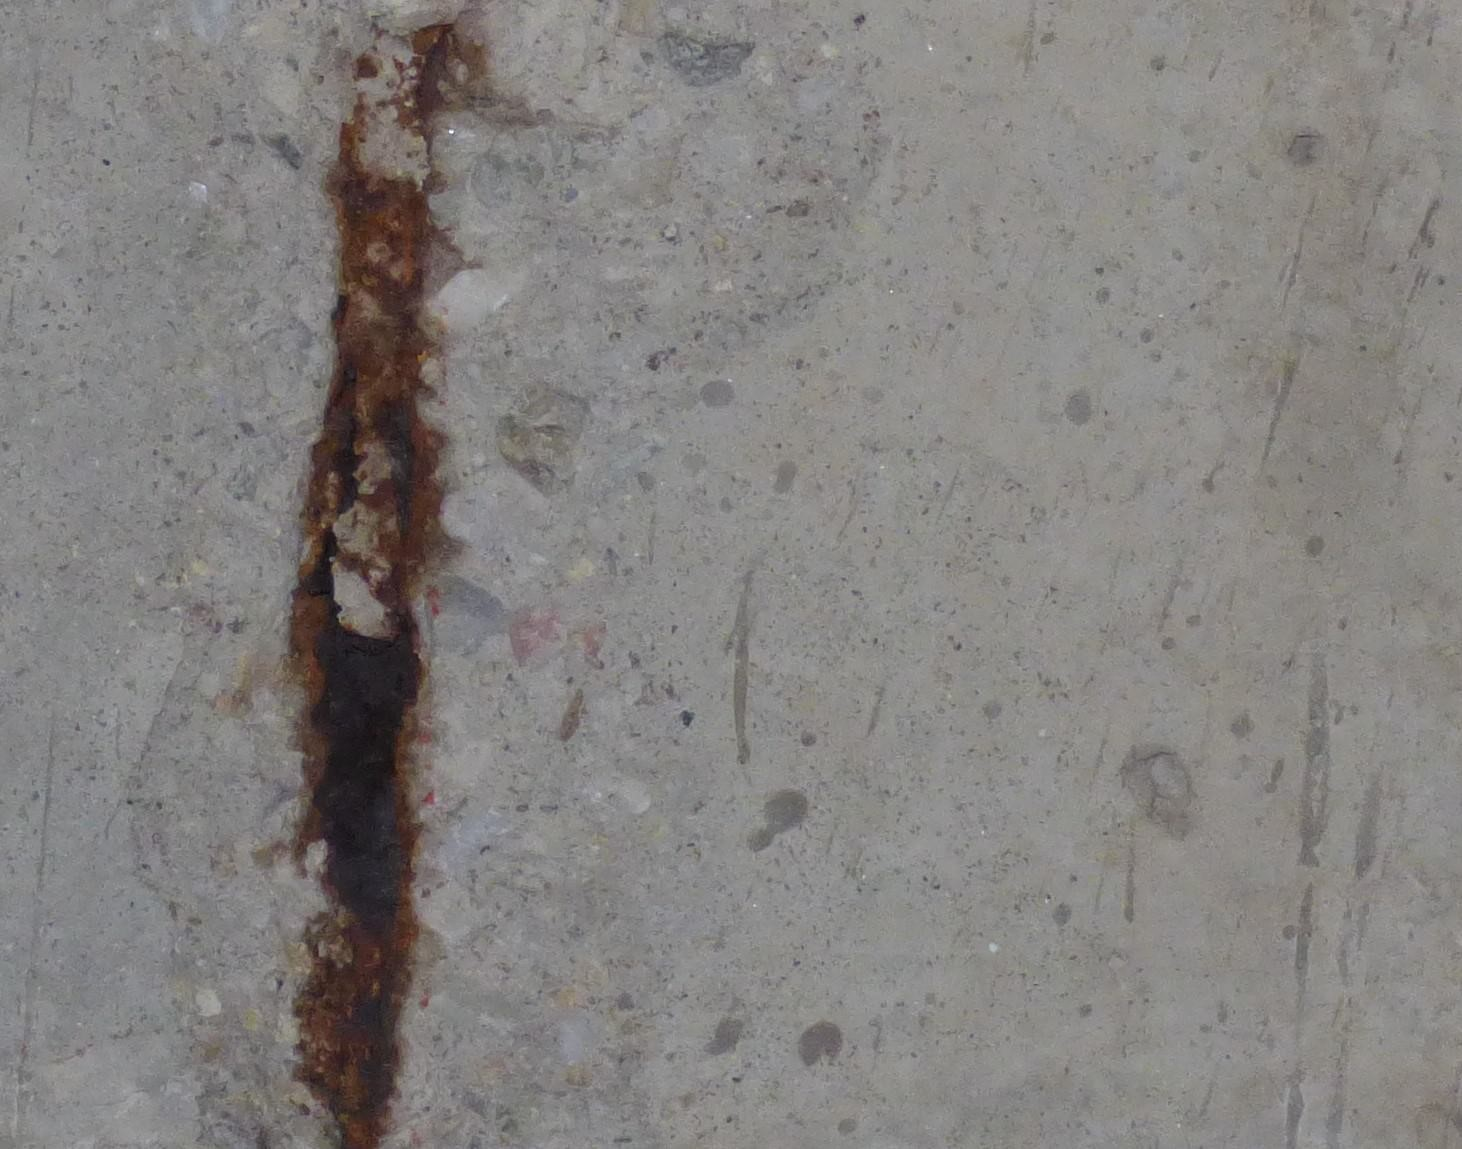Exposed reinforcement: (287, 1, 440, 1149)
